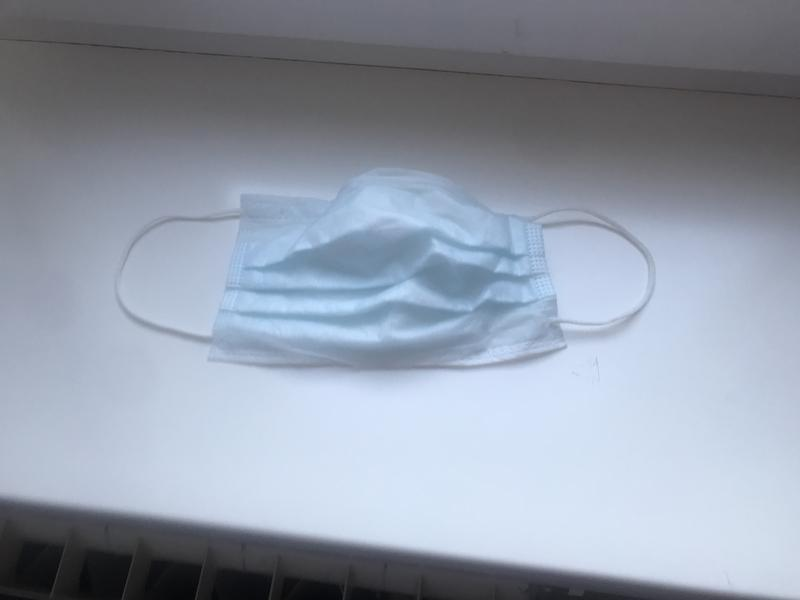medical_mask: (113, 167, 655, 365)
